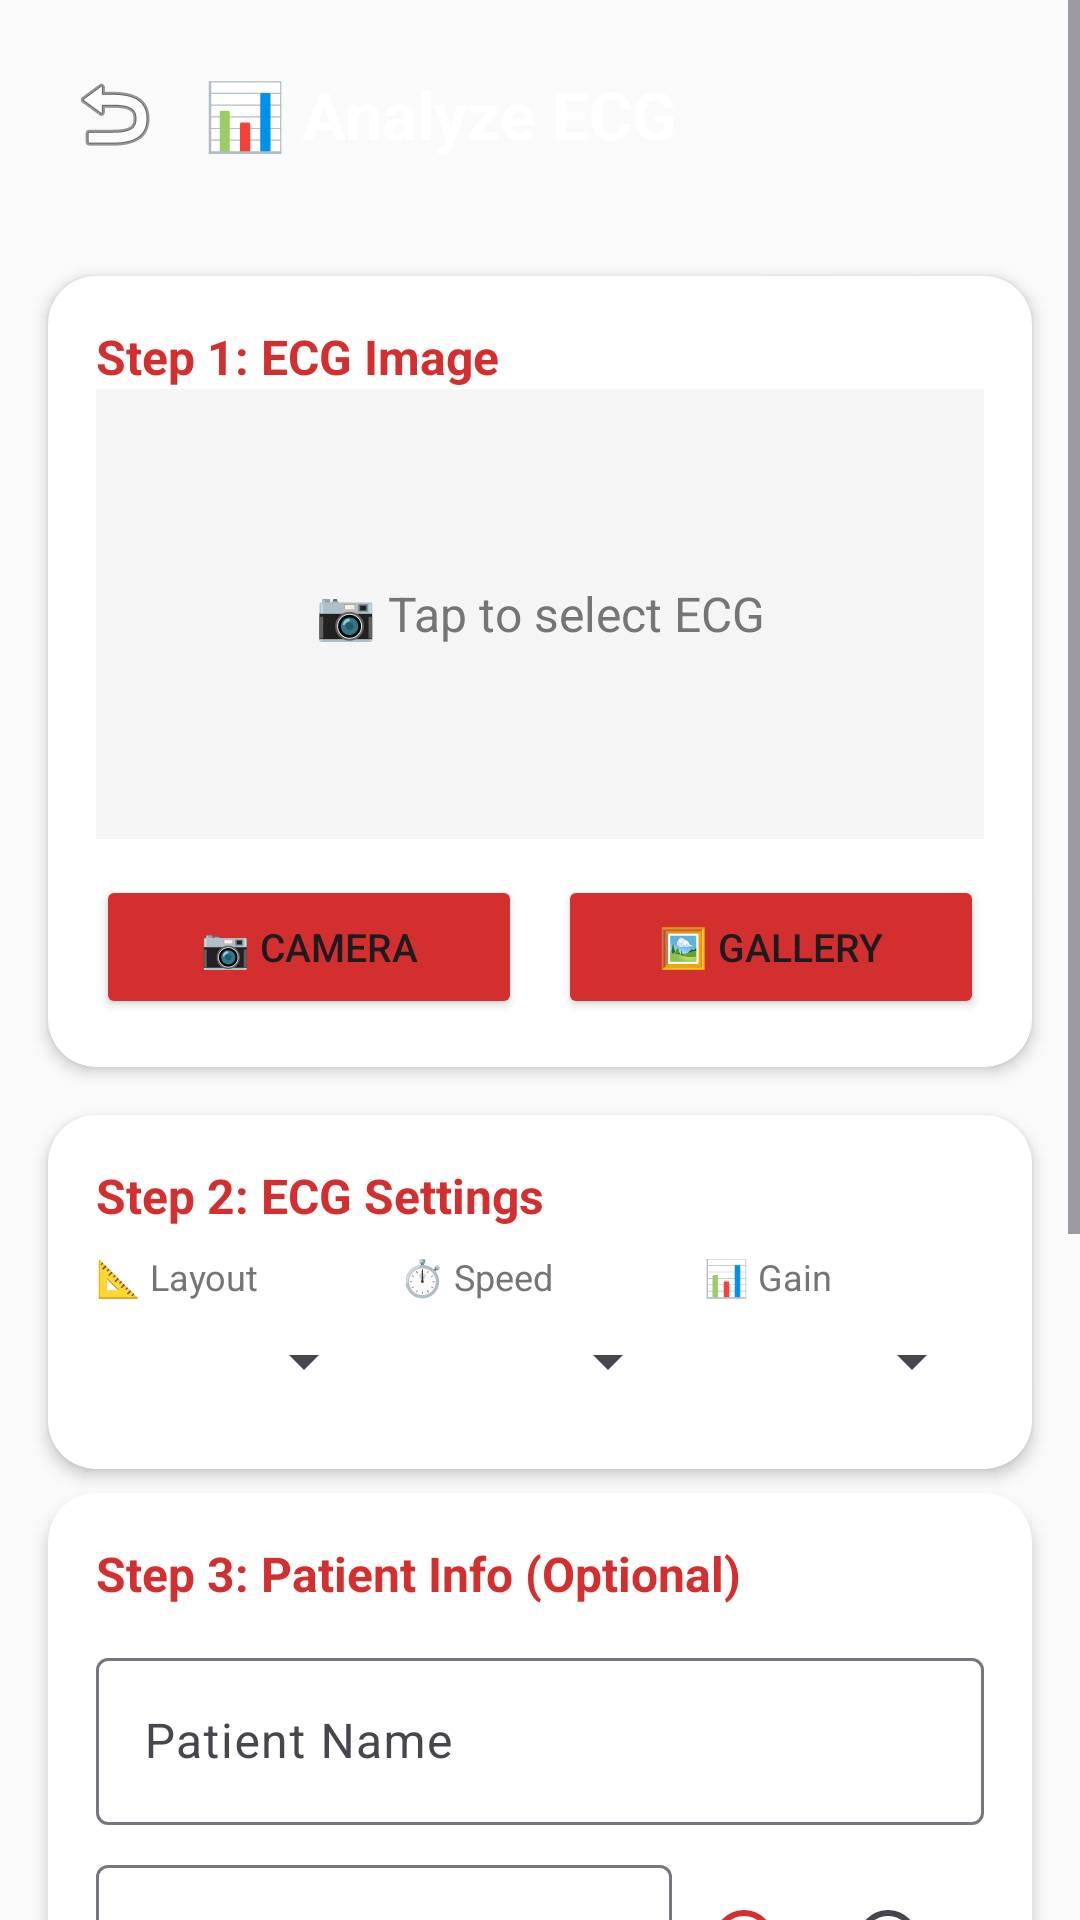

Icons on this 1080px x 1920px Android screen, each with the point to tap as [x,y]:
revert: [115,114]
